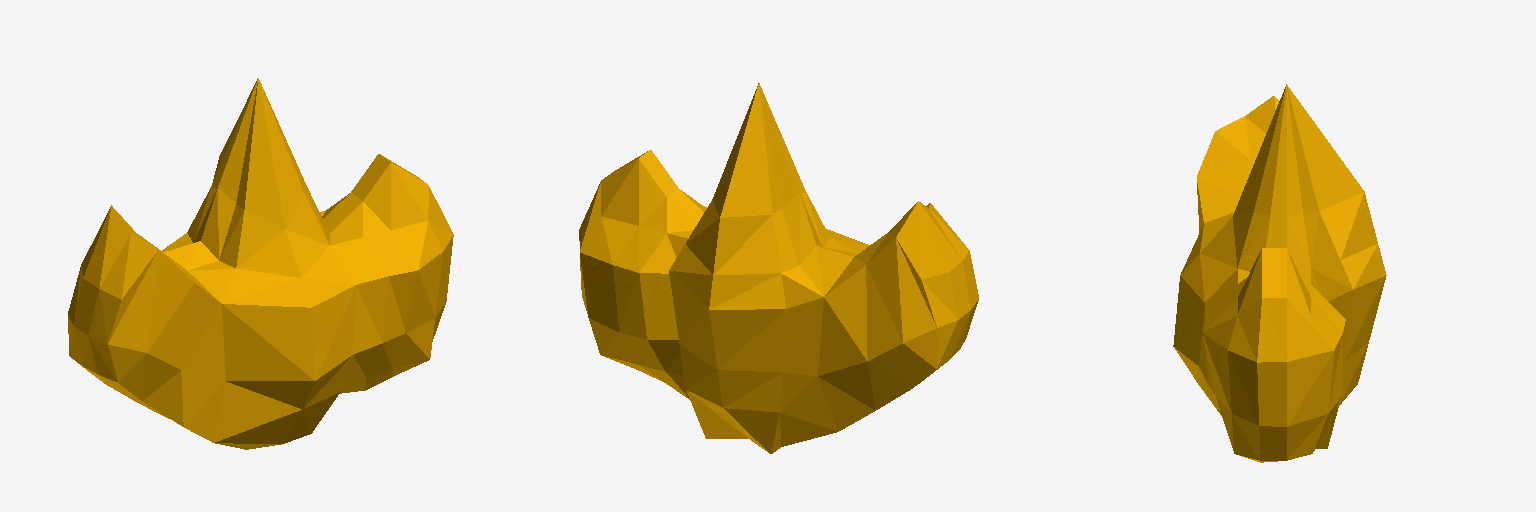
File: fuego.obj
The picture shows the model from 3 angles: view 1: azimuth 30°, elevation 25°; view 2: azimuth 150°, elevation 25°; view 3: azimuth 270°, elevation 25°; orthographic projection.
Visible parts, largest first — view 1: Pyramid01; view 2: Pyramid01; view 3: Pyramid01.
Boxes of the visible parts, x1,y1,x2,y2 form: Pyramid01: [68, 78, 453, 449]; Pyramid01: [579, 83, 978, 453]; Pyramid01: [1173, 84, 1386, 462].
Size of the model in its own units: 31.49 by 28.23 by 15.6.